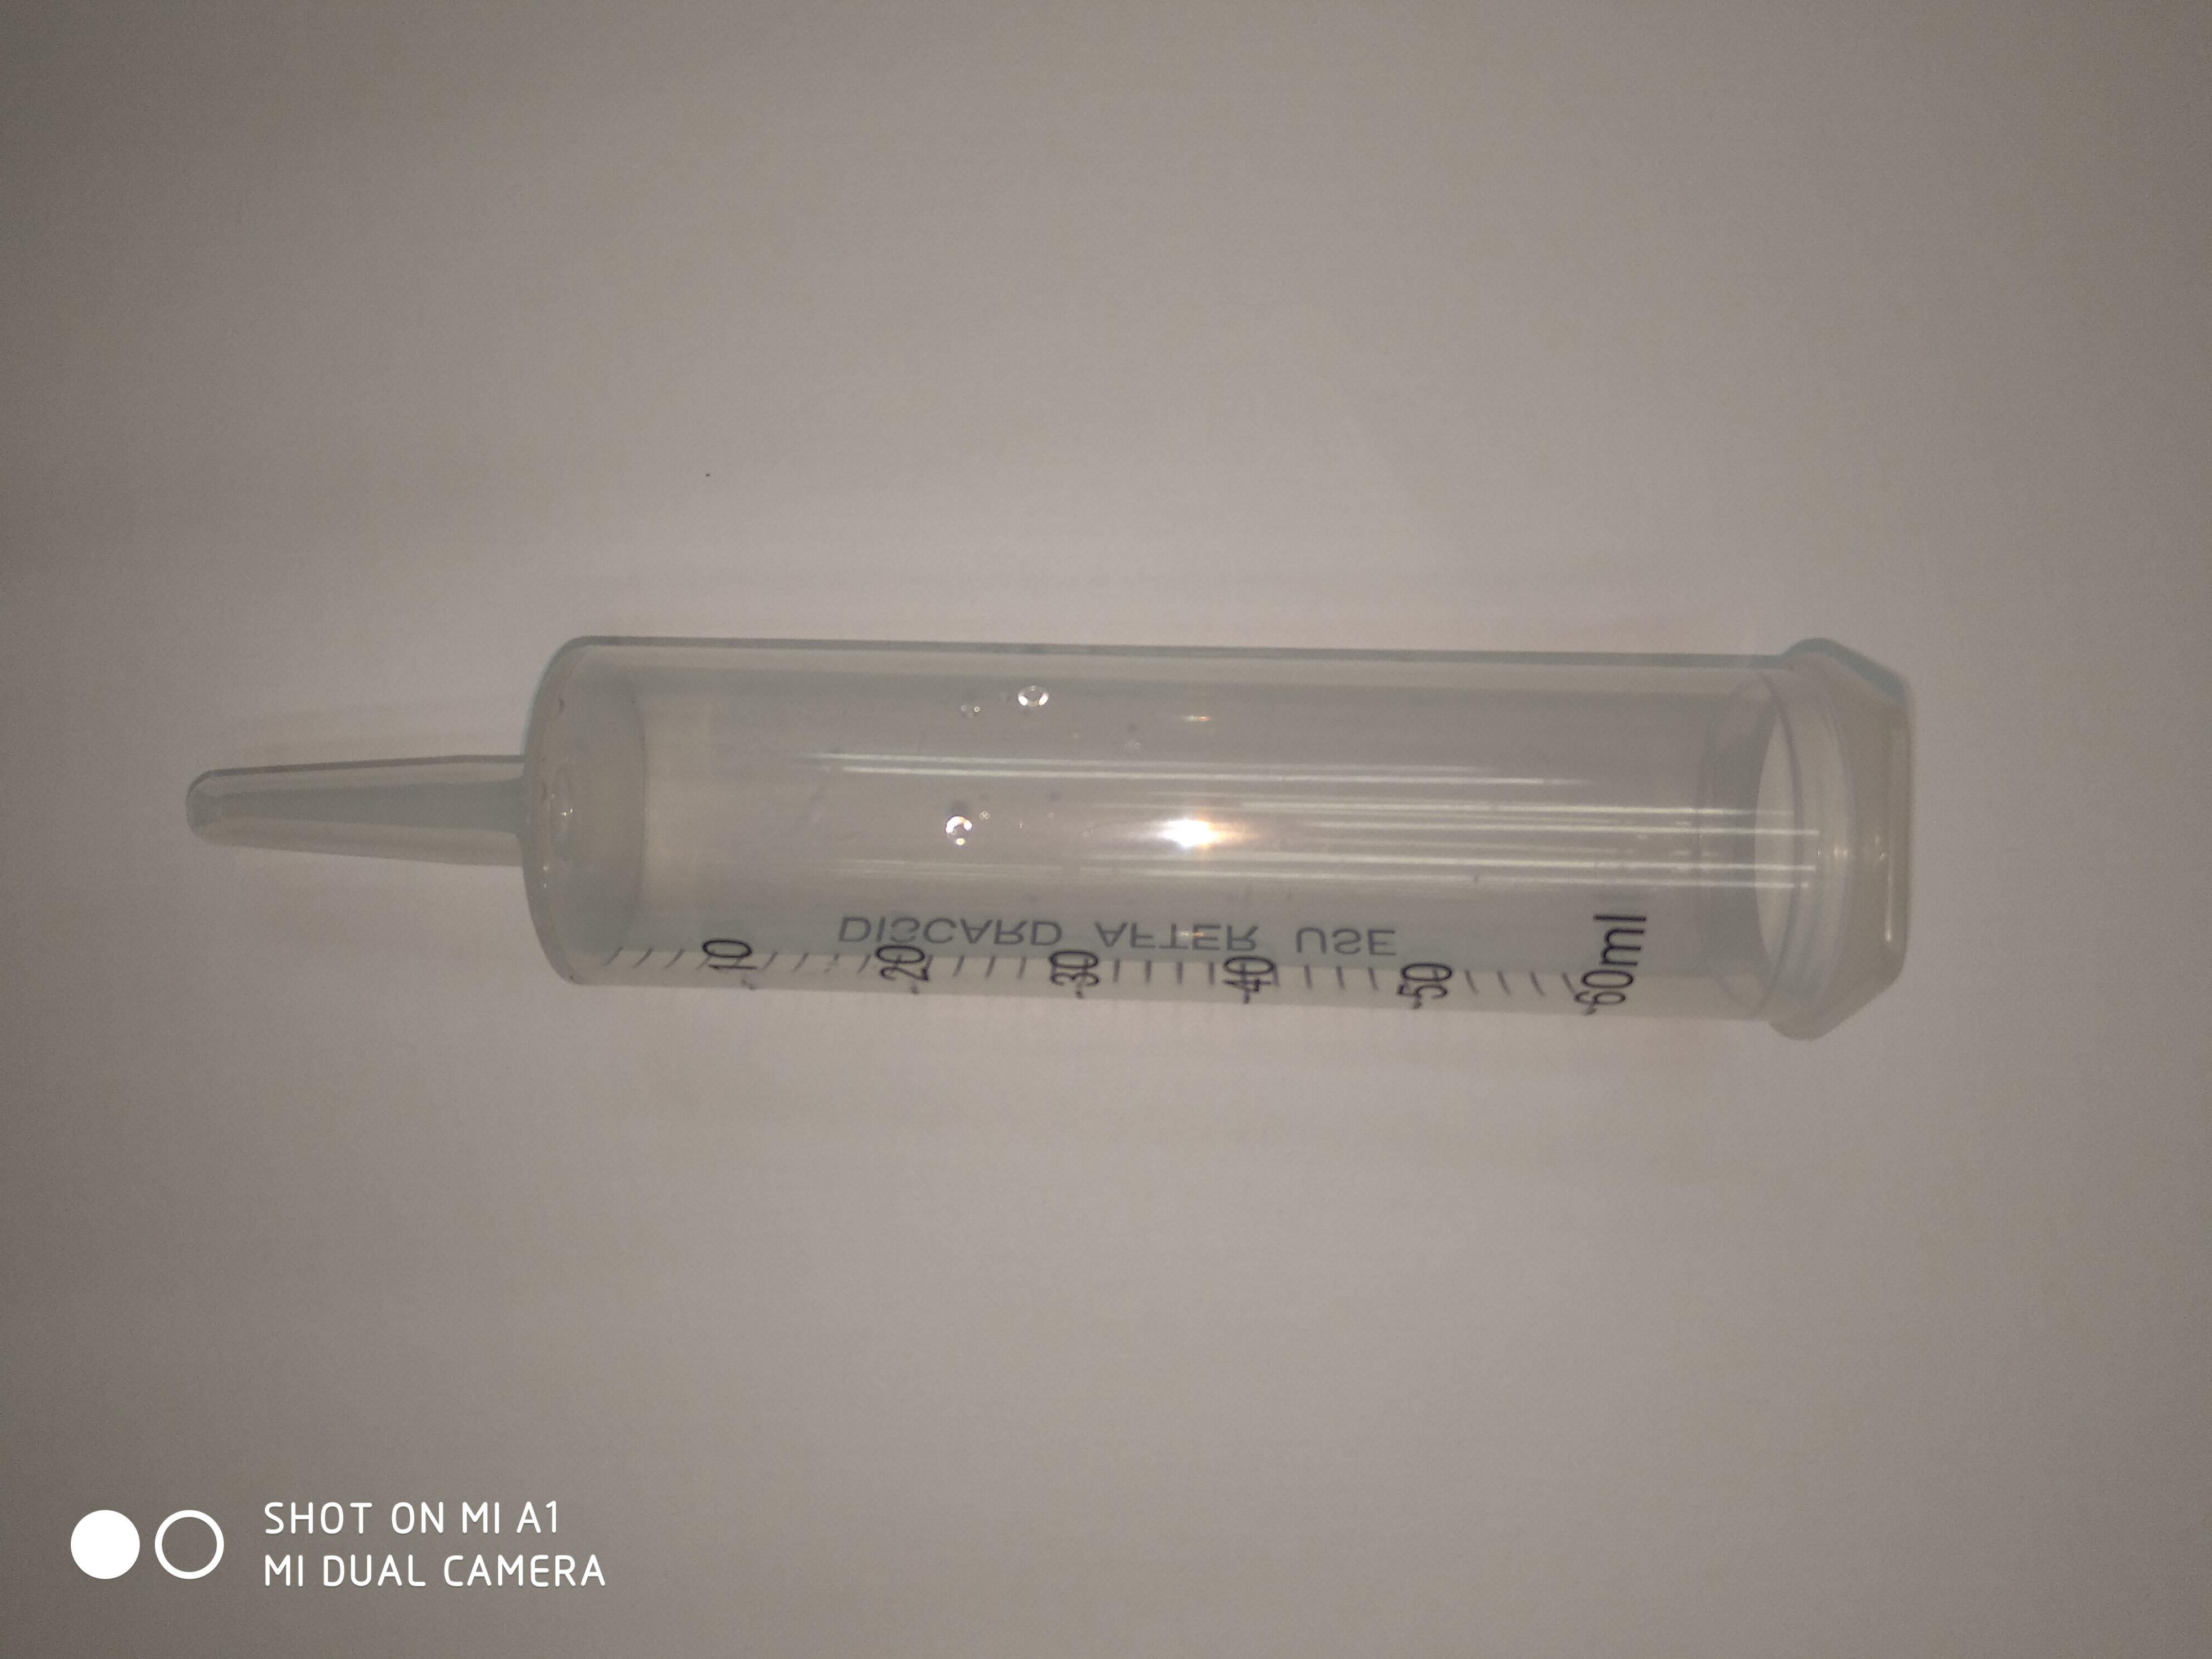syringe: (178, 617, 1933, 1051)
